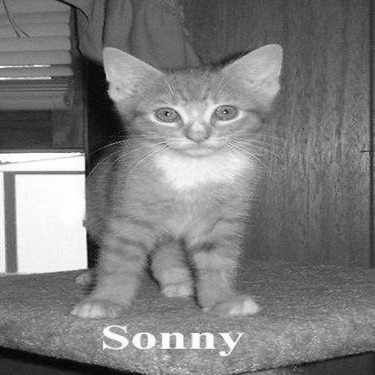cat: (68, 43, 285, 321)
